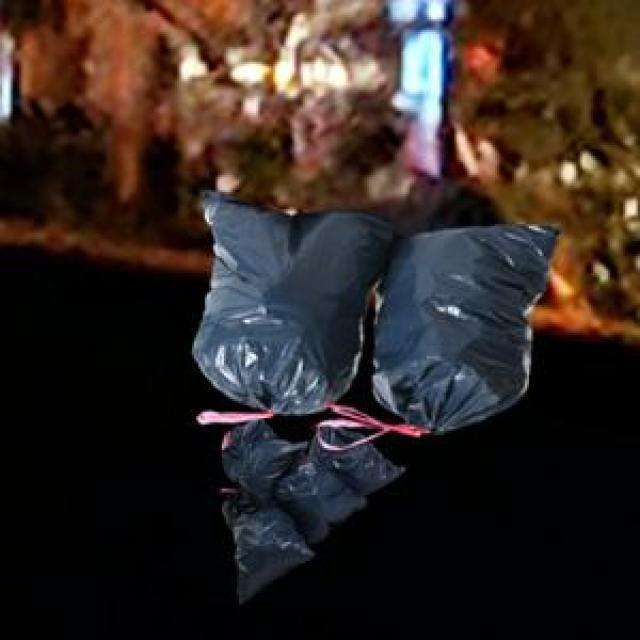Trashbag: (202, 204, 384, 407), (377, 232, 568, 420), (228, 514, 298, 588), (328, 429, 395, 493), (224, 423, 290, 486), (286, 476, 350, 530)
